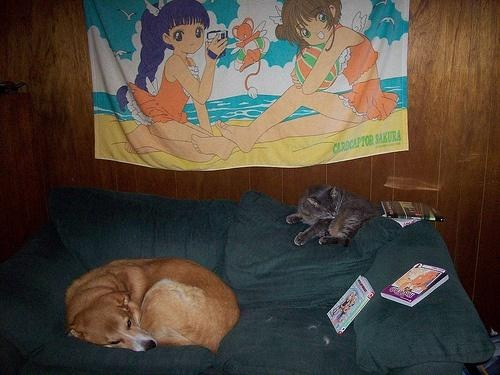cat: (288, 186, 378, 249)
dog: (65, 256, 242, 354)
sofa: (6, 188, 493, 375)
